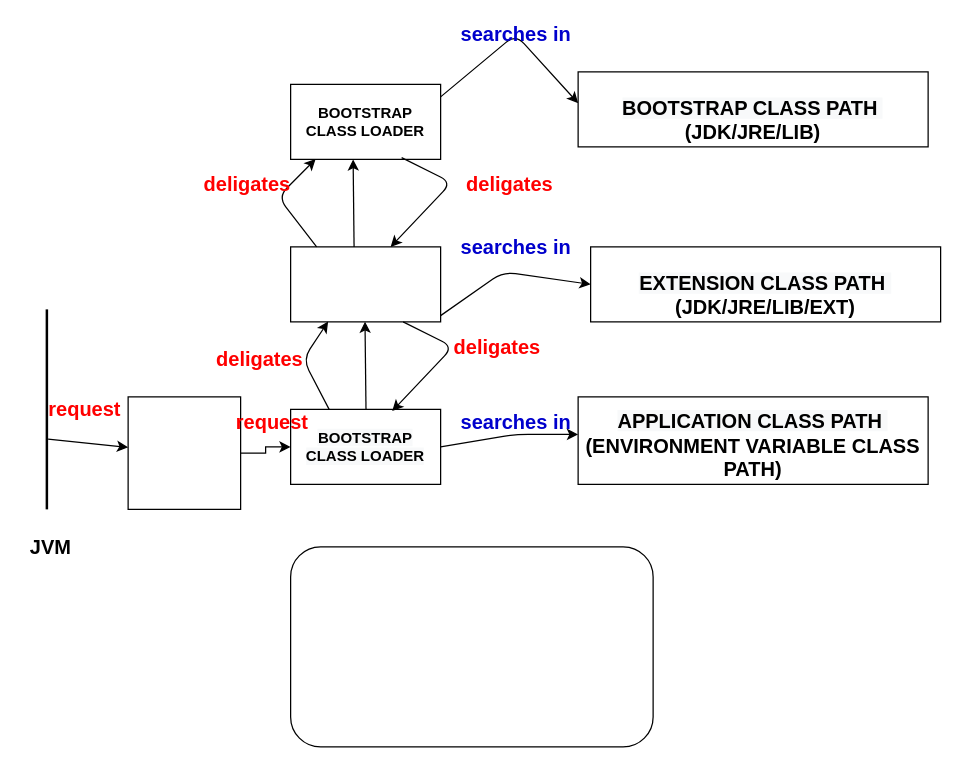
Image size: 963x769. Some labels were removed from this diagram. Here are the shapes that lost their labels. From the top down, the centre of each, then its label:
At point 365,284: "EXTENSION CLASS LOADER".
At point 184,452: "CLASS LOADER SUBSYSTEM".
At point 471,646: "if still not found then classNoFoundException OR noCLassFoundError".
